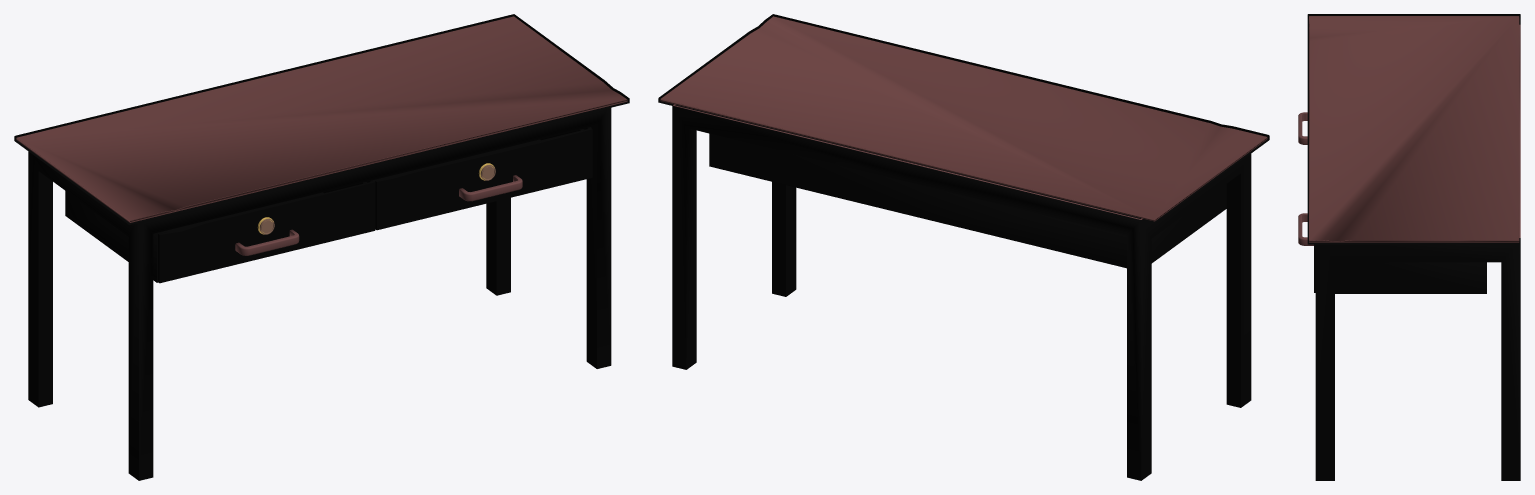
The model's file is Mesa1.fbx.
3 renders of one model, left to right at view 1: azimuth 30°, elevation 25°; view 2: azimuth 150°, elevation 25°; view 3: azimuth 270°, elevation 25°, orthographic. The views are drawn at different scales.
Visible parts, largest first — view 1: Symmetry; view 2: Symmetry; view 3: Symmetry.
Boxes of the visible parts, x1,y1,x2,y2 form: Symmetry: (14,14,629,480); Symmetry: (658,14,1269,480); Symmetry: (1298,14,1520,480).
Size of the model in its own units: 3.99 by 2.04 by 1.66.
